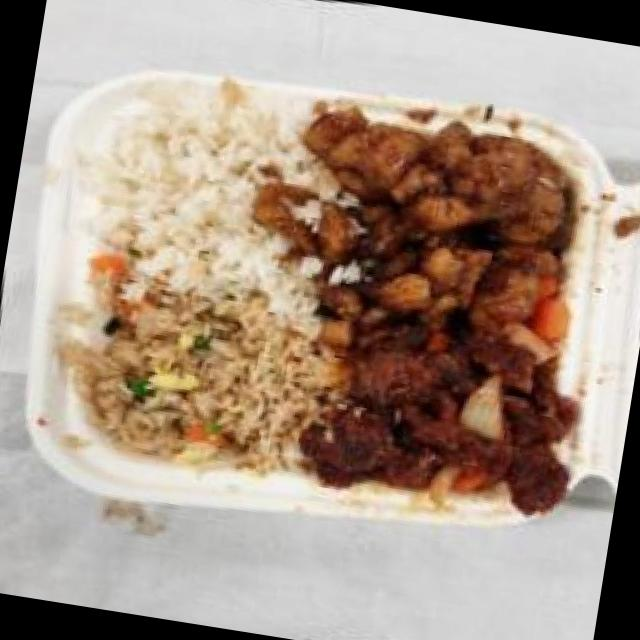Beijing Beef: (290, 298, 602, 532)
Fried Rice: (34, 260, 340, 496)
The Original Orange Chicken: (278, 79, 609, 358)
White Steamed Rice: (56, 79, 352, 338)
